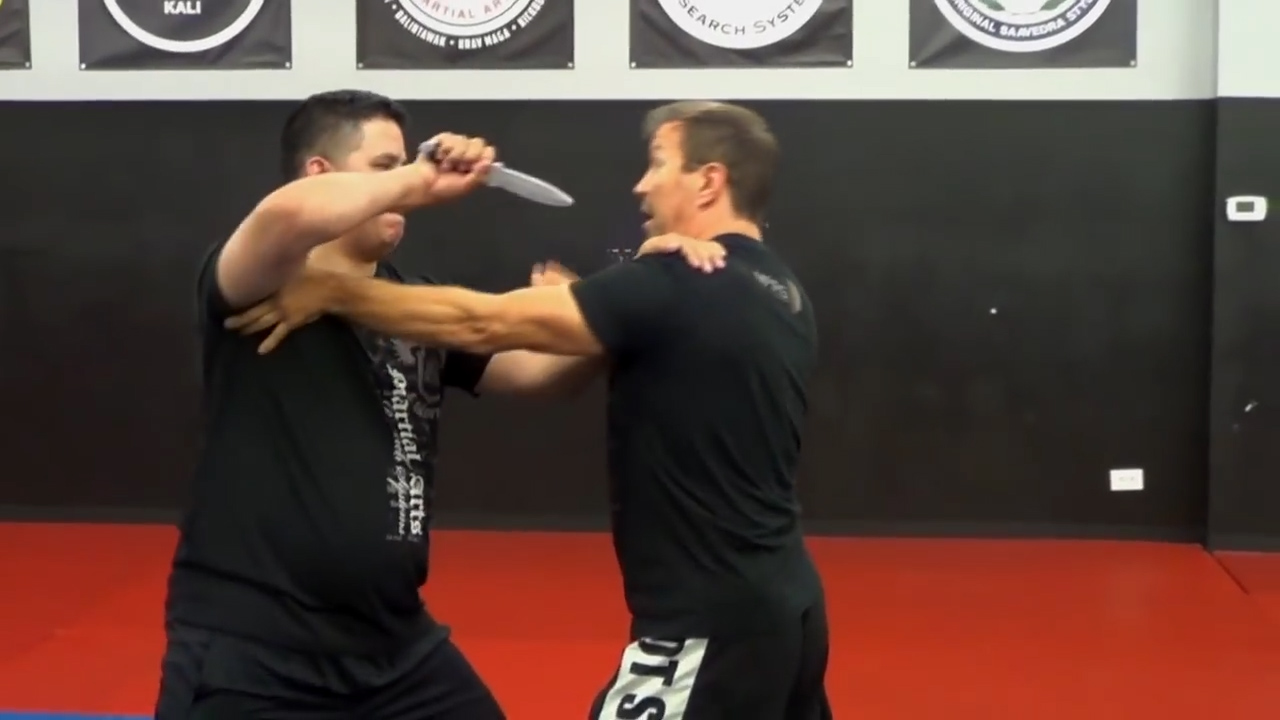knife: (421, 126, 580, 214)
